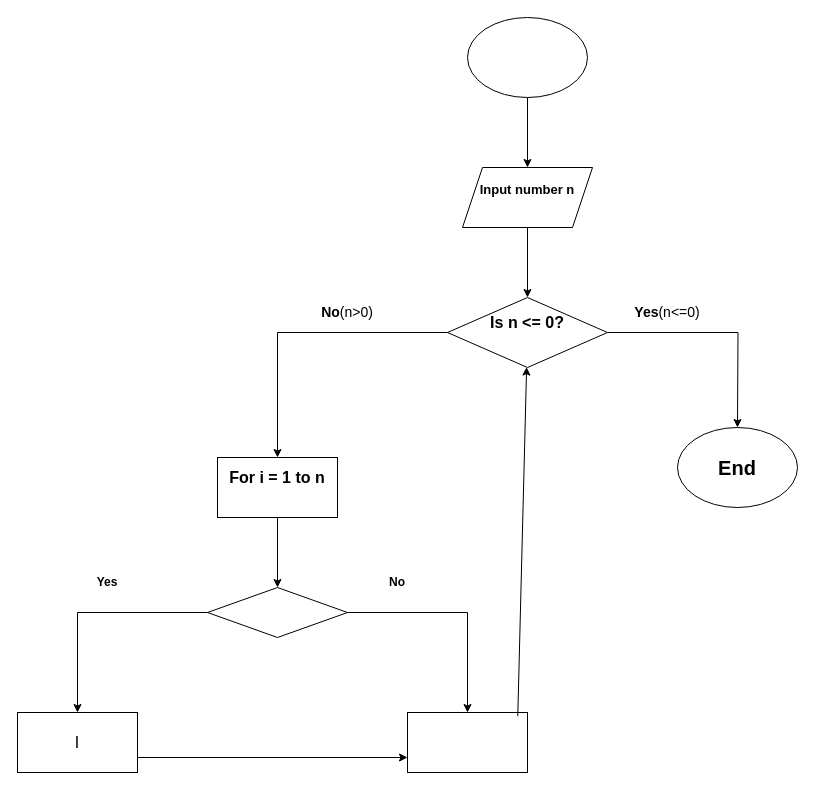
Some shapes in this 815 by 790 pixel diagram are drawn without their labels. Here are the shapes that lost their labels. From the top down, the centre of each, then its label:
point 527,57: start
point 277,612: Is n%1==0?
point 467,742: I++
